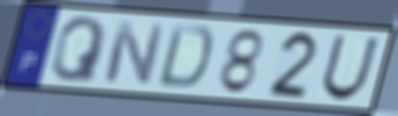2: (266, 29, 323, 101)
8: (218, 27, 266, 94)
D: (155, 22, 217, 92)
N: (101, 19, 167, 88)
Q: (48, 14, 110, 84)
U: (319, 33, 382, 103)
